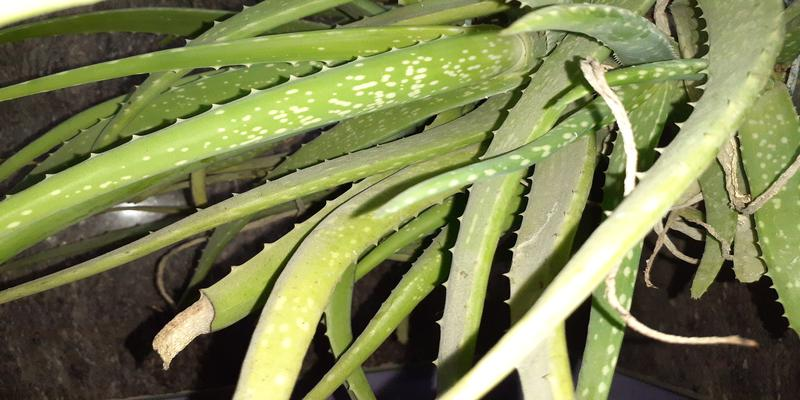Aloevera: (228, 11, 795, 365)
